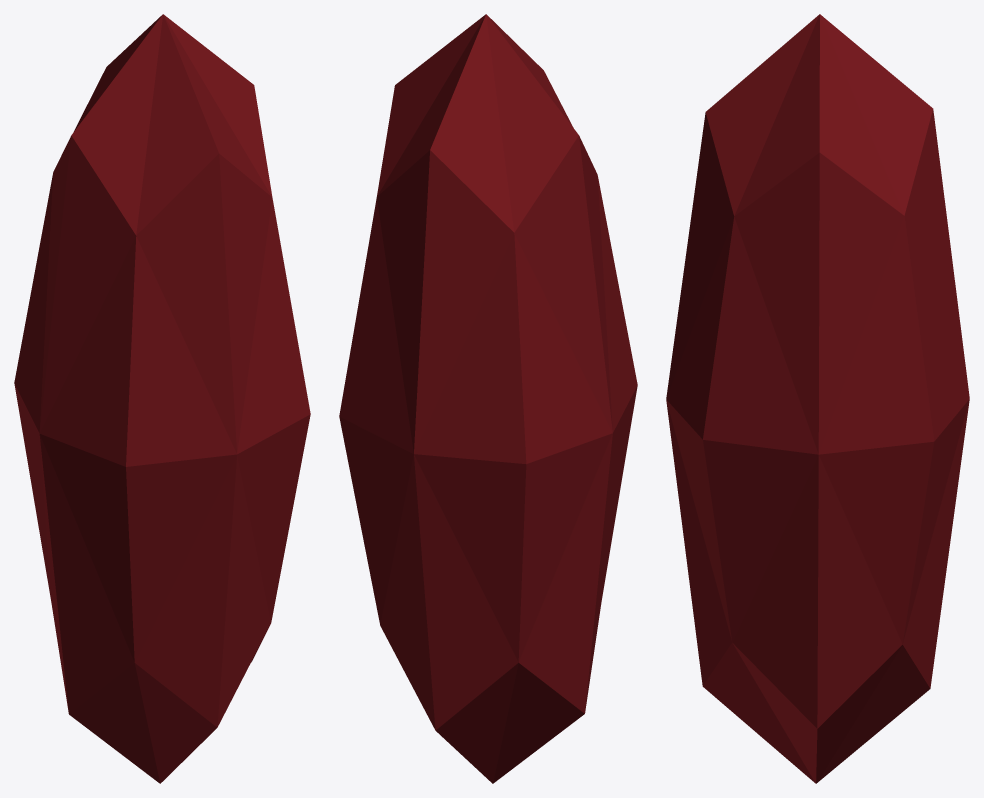
3 views of the same model, side by side, from view 1: azimuth 30°, elevation 25°; view 2: azimuth 150°, elevation 25°; view 3: azimuth 270°, elevation 25° (orthographic).
Parts seen in each view (by area): view 1: 973_Cube.3931; view 2: 973_Cube.3931; view 3: 973_Cube.3931.
Part boxes in pixels (x1=…): 973_Cube.3931: x1=14, y1=14, x2=310, y2=783; 973_Cube.3931: x1=339, y1=14, x2=637, y2=783; 973_Cube.3931: x1=666, y1=14, x2=969, y2=783.
Bounding box in the file's own units: 4.01 × 11.99 × 4.27.
